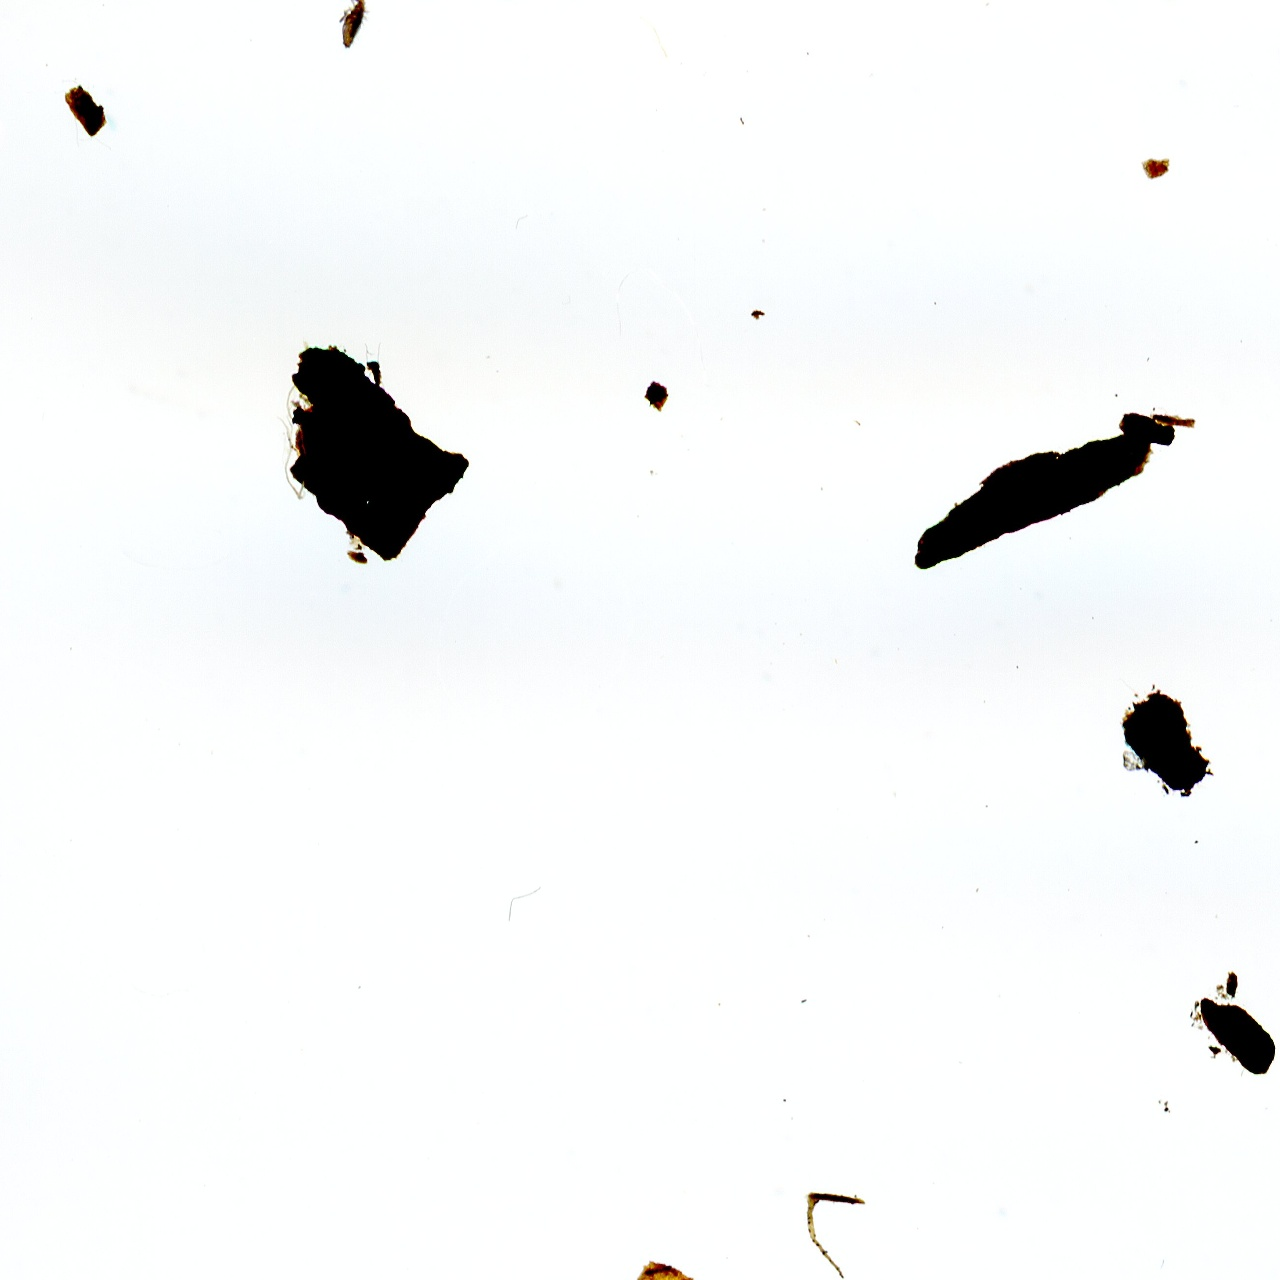arthropod: (332, 0, 374, 64)
